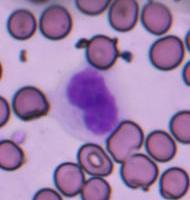M: (48, 65, 128, 139)
